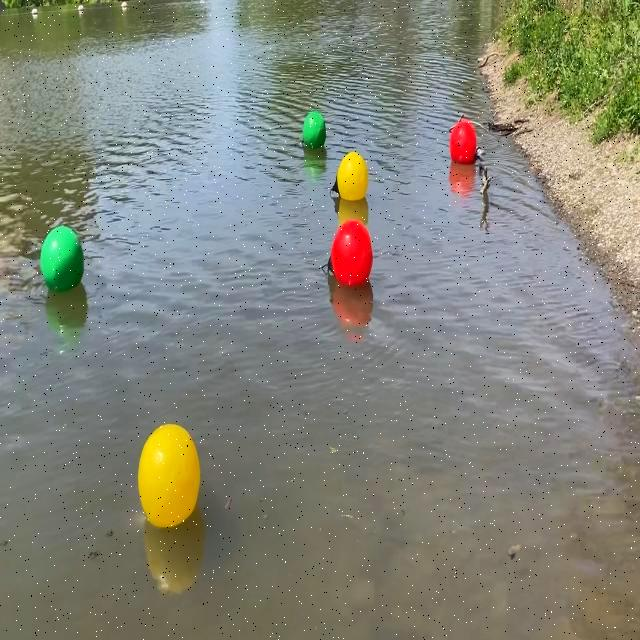buoy: (136, 423, 202, 532), (323, 215, 372, 289), (38, 225, 85, 295), (330, 150, 370, 203), (450, 119, 480, 168), (301, 110, 327, 150)
